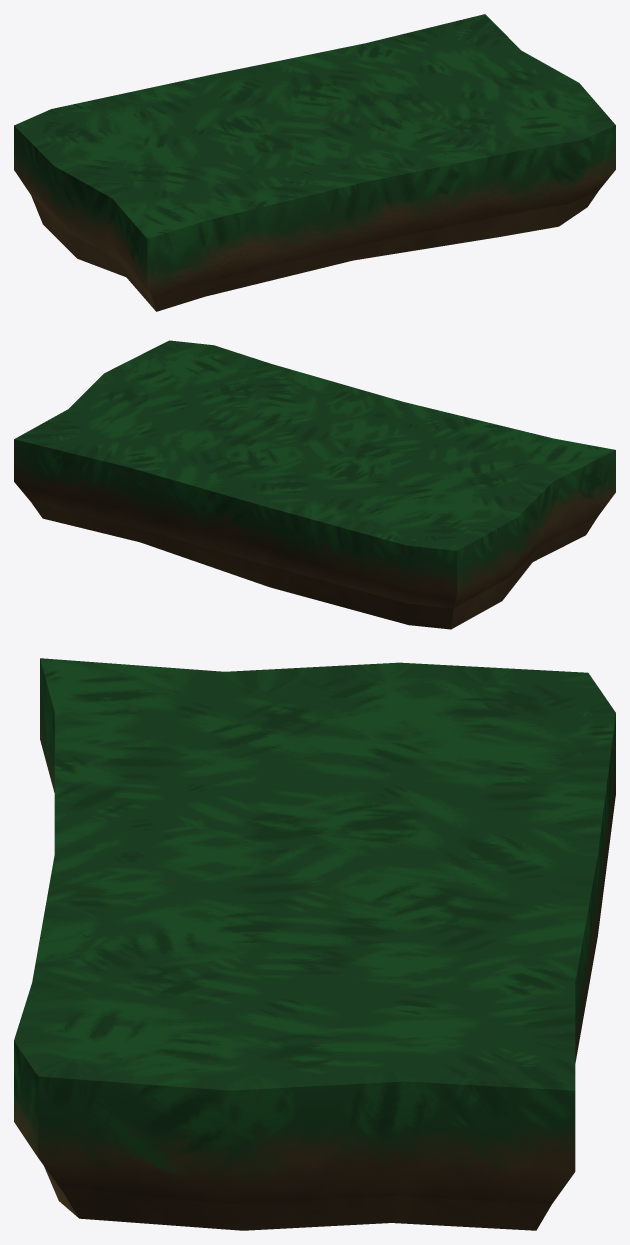
Rendered from Fantasy_LongMid1_Forest_Platform_Unchecked_ME.fbx.
3 renders of one model, top to bottom at view 1: azimuth 30°, elevation 25°; view 2: azimuth 150°, elevation 25°; view 3: azimuth 270°, elevation 25°, orthographic. The views are drawn at different scales.
Parts seen in each view (by area): view 1: ForestLongMid1; view 2: ForestLongMid1; view 3: ForestLongMid1.
Boxes of the visible parts, x1,y1,x2,y2 form: ForestLongMid1: (14,14,615,311); ForestLongMid1: (14,340,615,629); ForestLongMid1: (14,658,615,1230).
Size of the model in its own units: 244 by 144 by 45.71.
1 material, 1 textured.
